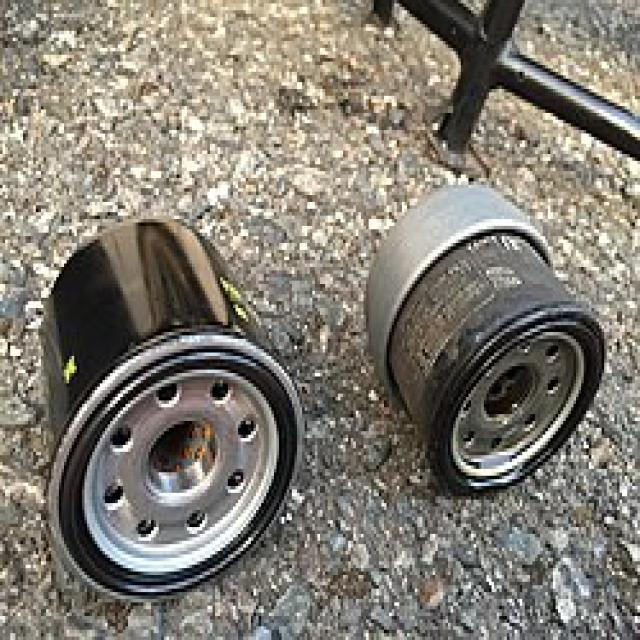oil_filter: (42, 220, 307, 604), (367, 204, 607, 492)
